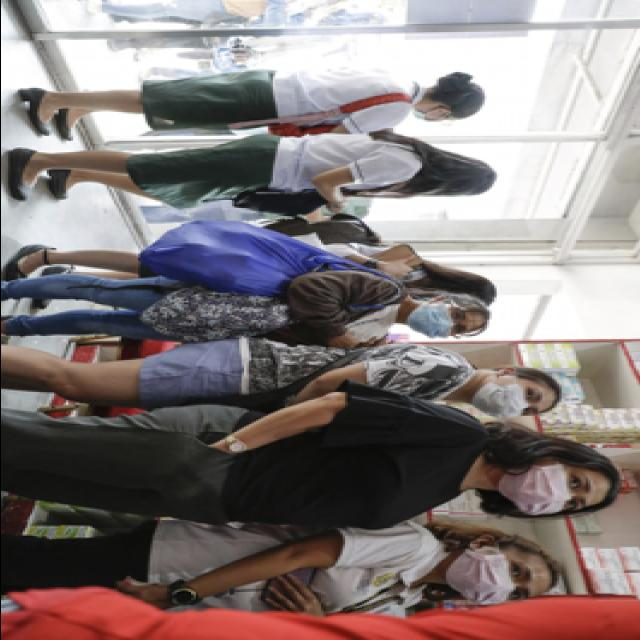with_mask: (496, 462, 594, 518), (445, 547, 539, 605), (472, 381, 544, 419), (406, 302, 472, 340), (409, 106, 457, 124)
